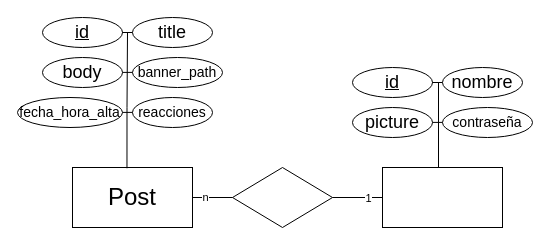
This 550x245 diagram has some shape labels left out. Each missing label, with the centre of its shape:
"realiza" belongs at point (282, 197).
"Usuario" belongs at point (442, 197).
